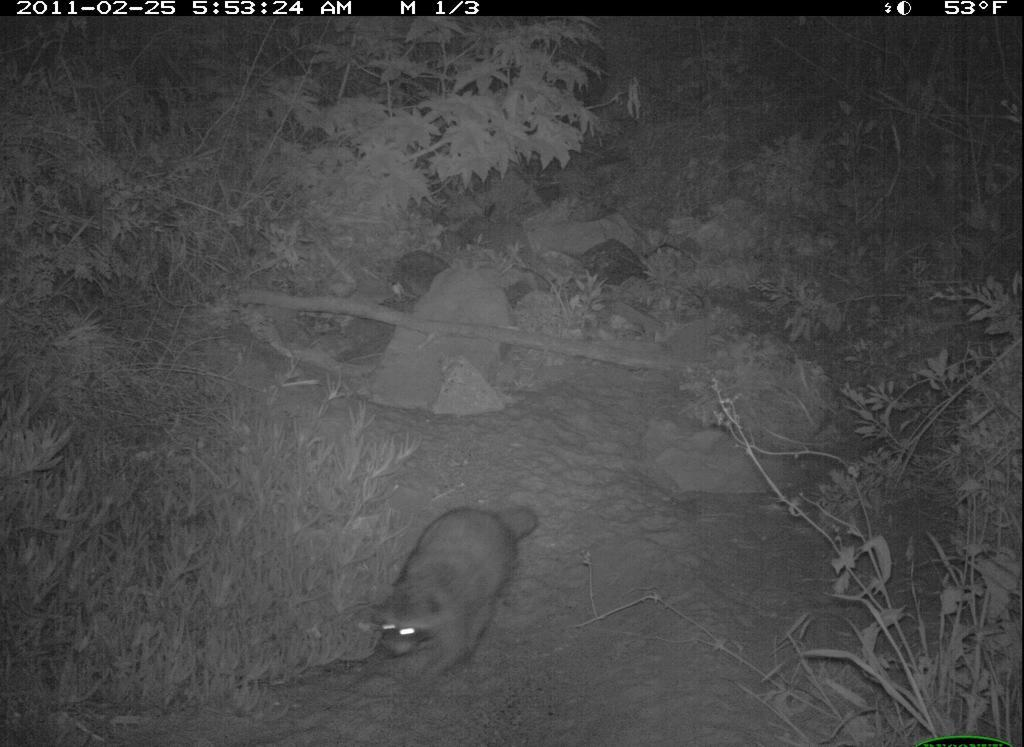raccoon: (363, 497, 547, 703)
